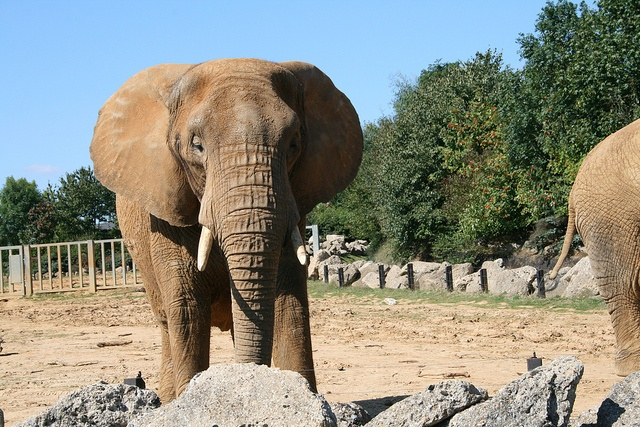elephant: (88, 55, 364, 411), (549, 115, 639, 376)
